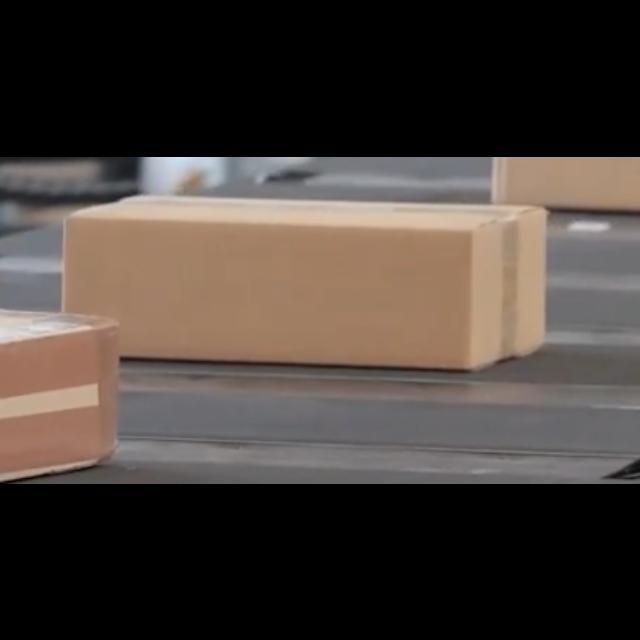box: (61, 194, 550, 366), (1, 306, 118, 482), (490, 157, 640, 211)
